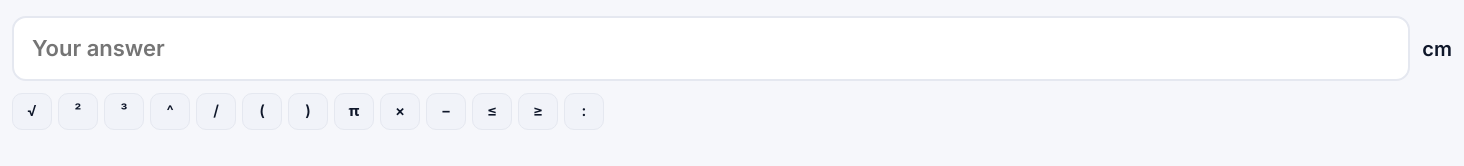
it: AnswerWidget › typed answers use the maths keypad
This screenshot has width=1464, height=166.
Type "x" into the field labelled "Your answer" at (711, 48), box x1=12 y1=16 x2=1410 y2=81
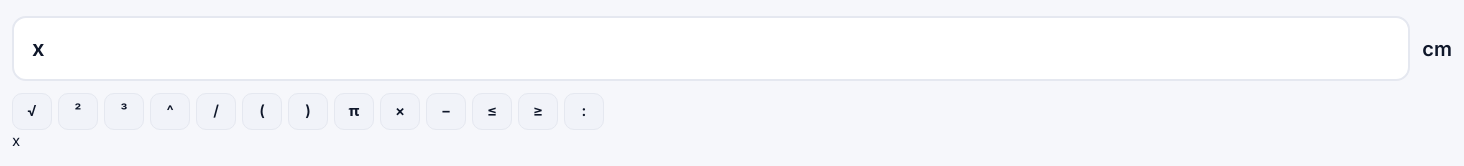
Click the button "²" at (78, 111), box x1=58 y1=93 x2=98 y2=130
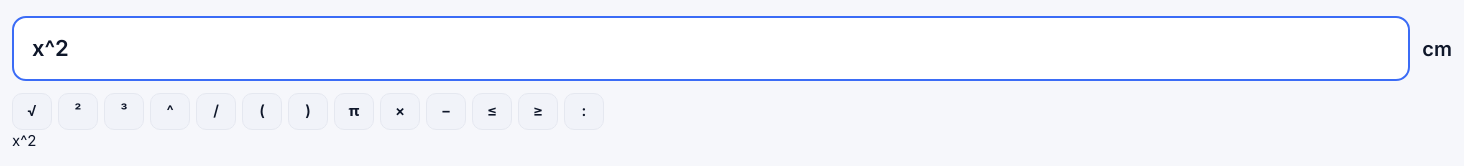
Expected: the text "cm" is shown, x1=1422 y1=34 x2=1452 y2=64
Result: the text with test id "v" reads "x^2" at x1=12 y1=130 x2=36 y2=150
